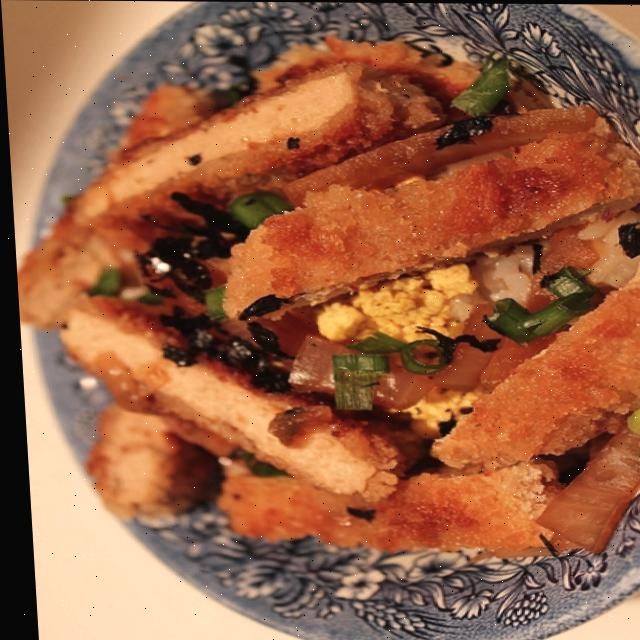鸡蛋料理: (10, 16, 640, 601)
